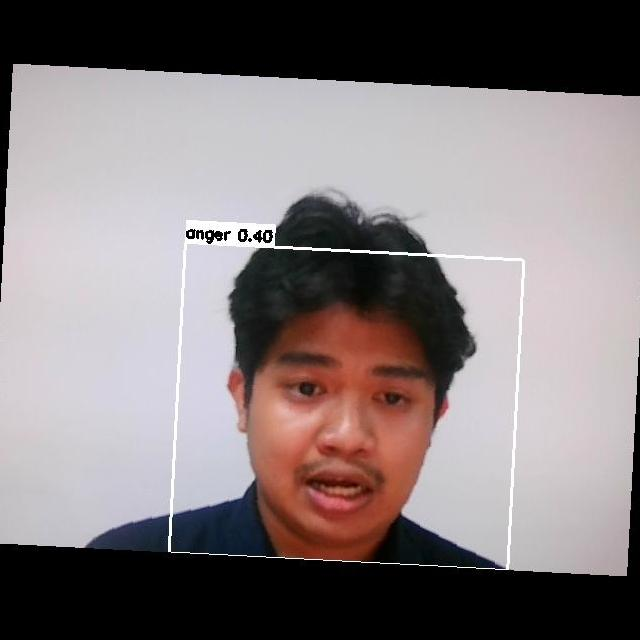Fear: (236, 322, 431, 525)
